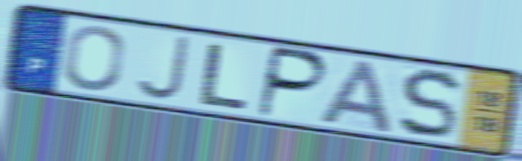A: (316, 57, 395, 136)
J: (132, 33, 193, 103)
L: (196, 40, 252, 112)
O: (61, 24, 127, 93)
P: (254, 44, 330, 121)
S: (396, 67, 463, 142)
